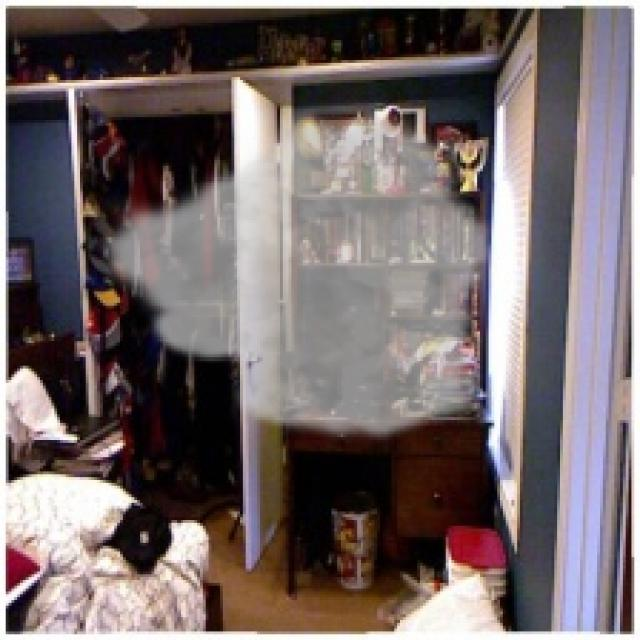smoke: (94, 103, 497, 446)
